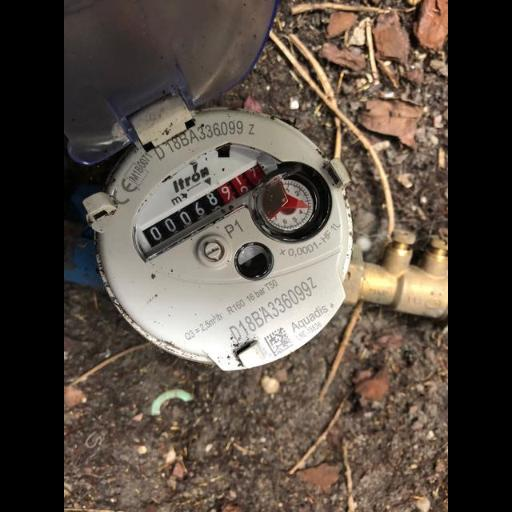0: (145, 222, 168, 247), (160, 213, 182, 238), (174, 206, 196, 229)
1: (231, 172, 253, 196)
6: (187, 197, 209, 221)
8: (203, 188, 225, 212)
9: (216, 181, 238, 204), (246, 164, 267, 187)
border_water_meter_number: (138, 159, 274, 258)
